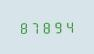eight: (18, 20, 28, 34), (40, 20, 50, 33)
four: (62, 19, 72, 33)
nine: (51, 19, 61, 33)
seven: (29, 20, 39, 34)
